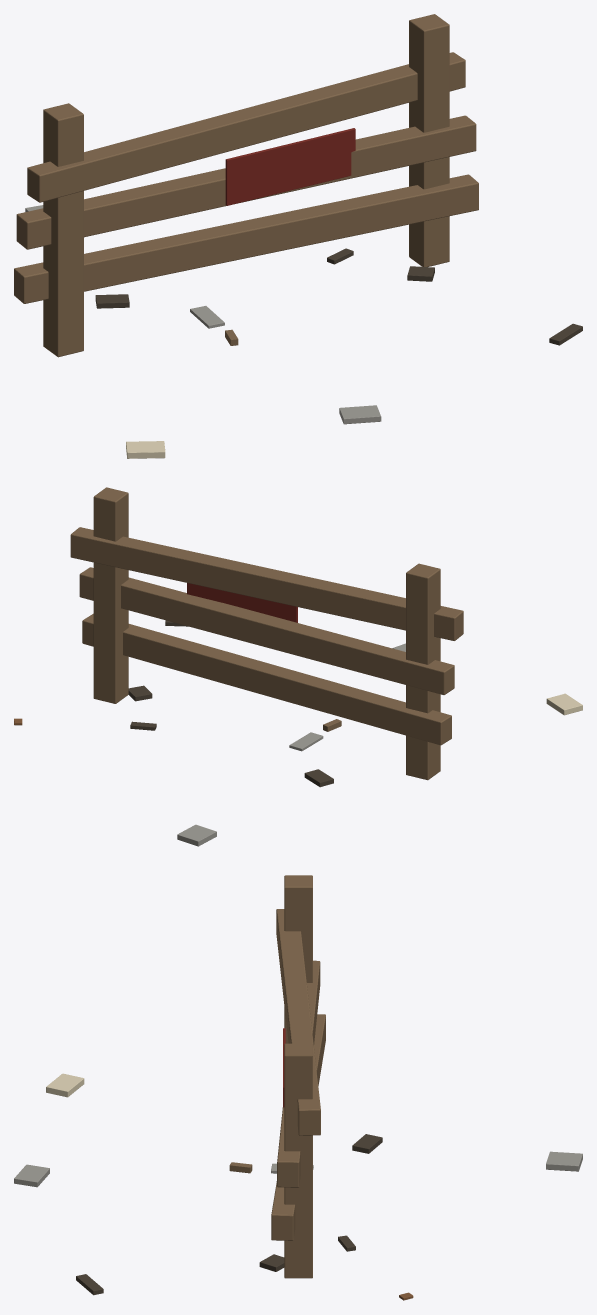
Rendered from dz_barricade_wood_planks_premium.glb.
The picture shows the model from 3 angles, top to bottom: view 1: azimuth 30°, elevation 25°; view 2: azimuth 150°, elevation 25°; view 3: azimuth 270°, elevation 25°; orthographic projection. The views are drawn at different scales.
Parts seen in each view (by area): view 1: wood_barricade_plank_0, wood_barricade_plank_2, wood_barricade_plank_1, wood_post_-1.25, wood_post_1.25, ne_pas_entrer_paint, wood_debris_03, wood_debris_07; view 2: wood_barricade_plank_2, wood_barricade_plank_1, wood_barricade_plank_0, wood_post_1.25, wood_post_-1.25, ne_pas_entrer_paint, wood_debris_08, wood_debris_03; view 3: wood_post_1.25, wood_barricade_plank_2, wood_post_-1.25, wood_barricade_plank_1, wood_barricade_plank_0, wood_debris_08, wood_debris_03, wood_debris_07.
Boxes of the visible parts, x1,y1,x2,y2 form: wood_barricade_plank_0: (14,174,478,303); wood_barricade_plank_2: (27,52,465,202); wood_barricade_plank_1: (16,115,476,249); wood_post_-1.25: (43,103,83,357); wood_post_1.25: (409,14,449,266); ne_pas_entrer_paint: (225,128,355,205); wood_debris_03: (126,441,165,458); wood_debris_07: (339,405,381,424); wood_barricade_plank_2: (70,527,463,640); wood_barricade_plank_1: (79,567,454,694); wood_barricade_plank_0: (82,613,451,745); wood_post_1.25: (93,487,128,703); wood_post_-1.25: (406,563,440,780); ne_pas_entrer_paint: (187,583,297,622); wood_debris_08: (177,824,216,846); wood_debris_03: (546,693,582,715); wood_post_1.25: (284,1043,312,1278); wood_barricade_plank_2: (276,909,320,1135); wood_post_-1.25: (284,875,312,1043); wood_barricade_plank_1: (277,960,320,1187); wood_barricade_plank_0: (271,1014,325,1240); wood_debris_08: (546,1151,582,1171); wood_debris_03: (46,1073,84,1097); wood_debris_07: (14,1164,49,1187).
Bounding box in the file's own units: 3.32 × 1.57 × 3.58.
